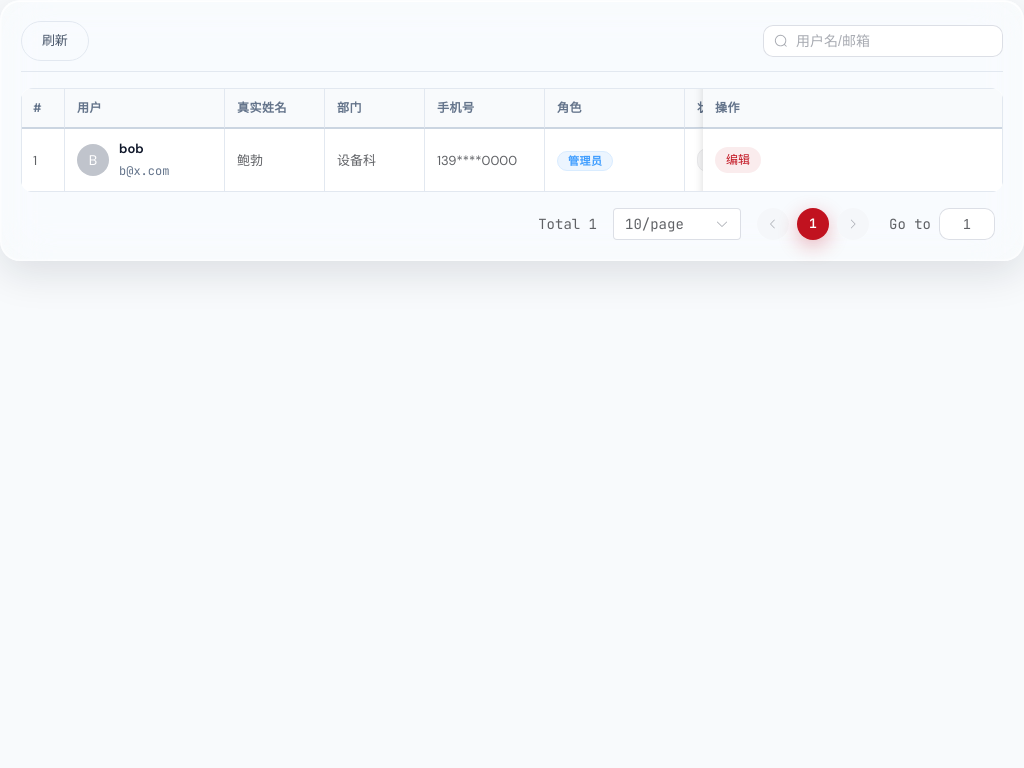
UserView 编辑用户对话框 › 回填该行字段、用户名只读、不出现密码字段（编辑不改密）
The width and height of the screenshot is (1024, 768).
Click the button with class "glass-btn--link" at (738, 160), box [715, 147, 761, 173]
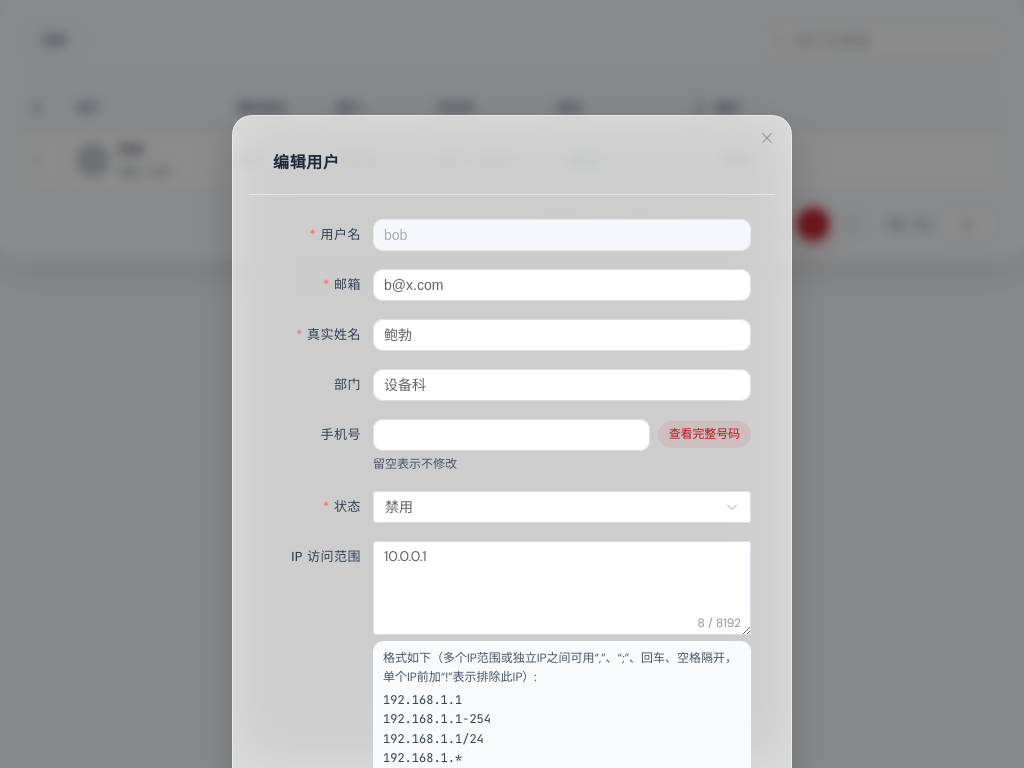
Result: the heading "编辑用户" is shown at [273, 152, 340, 173]
Result: the field labelled "用户名" holds "bob" at [384, 220, 740, 250]
Result: the field labelled "用户名" is disabled at [384, 220, 740, 250]
